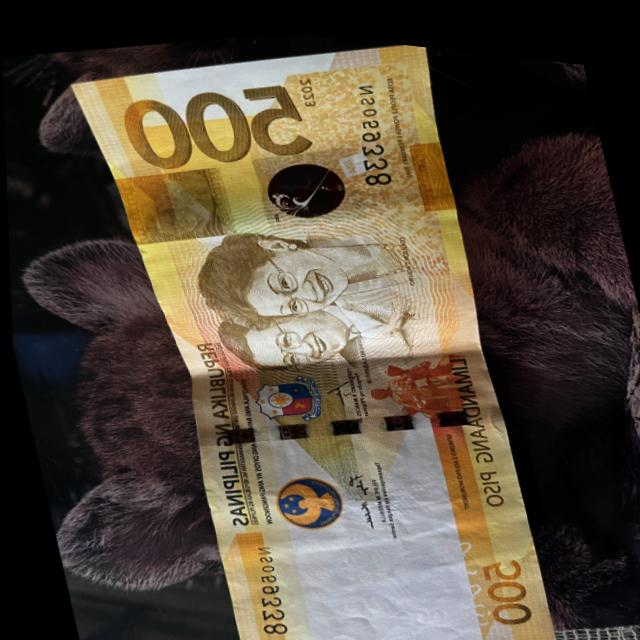concealed_value: (117, 155, 230, 249)
optically_variable_device: (254, 127, 379, 230)
security_thread: (197, 358, 494, 476)
see_through_mark: (440, 527, 492, 632)
value: (103, 47, 327, 190)
value_watermark: (380, 583, 448, 634)
